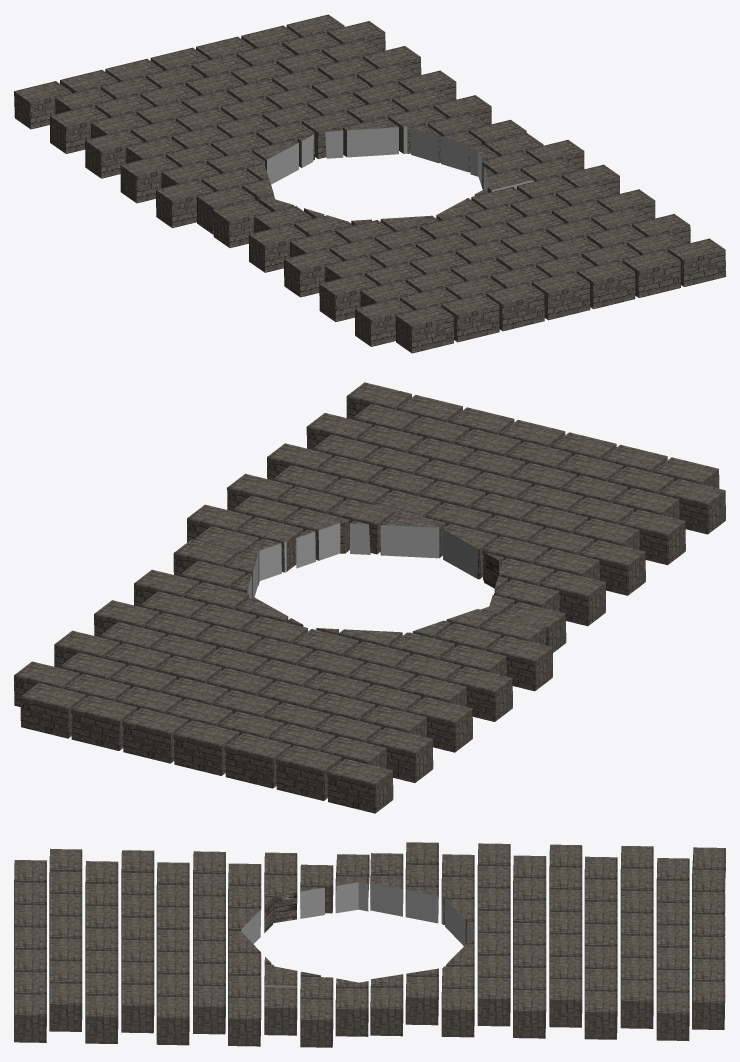
File: Hueco_piso.fbx
3 views of the same model, one above another, from view 1: azimuth 30°, elevation 25°; view 2: azimuth 150°, elevation 25°; view 3: azimuth 270°, elevation 25° (orthographic). The views are drawn at different scales.
Visible parts, largest first — view 1: polySurface108; view 2: polySurface108; view 3: polySurface108.
Part boxes in pixels (x1,y1,x2,y2): polySurface108: [14, 14, 725, 353]; polySurface108: [14, 382, 725, 813]; polySurface108: [14, 842, 725, 1047].
Bounding box in the file's own units: 13.92 × 1.38 × 23.53.
